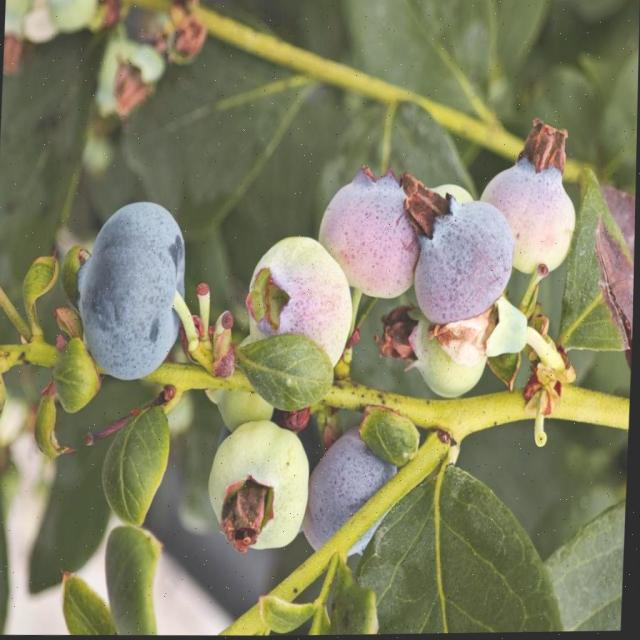Semi-RipeBlueBerry: (315, 166, 424, 301), (210, 415, 314, 555), (242, 242, 358, 352), (411, 201, 512, 325), (488, 146, 578, 278)
UnripeBlueBerry: (81, 194, 184, 374)
